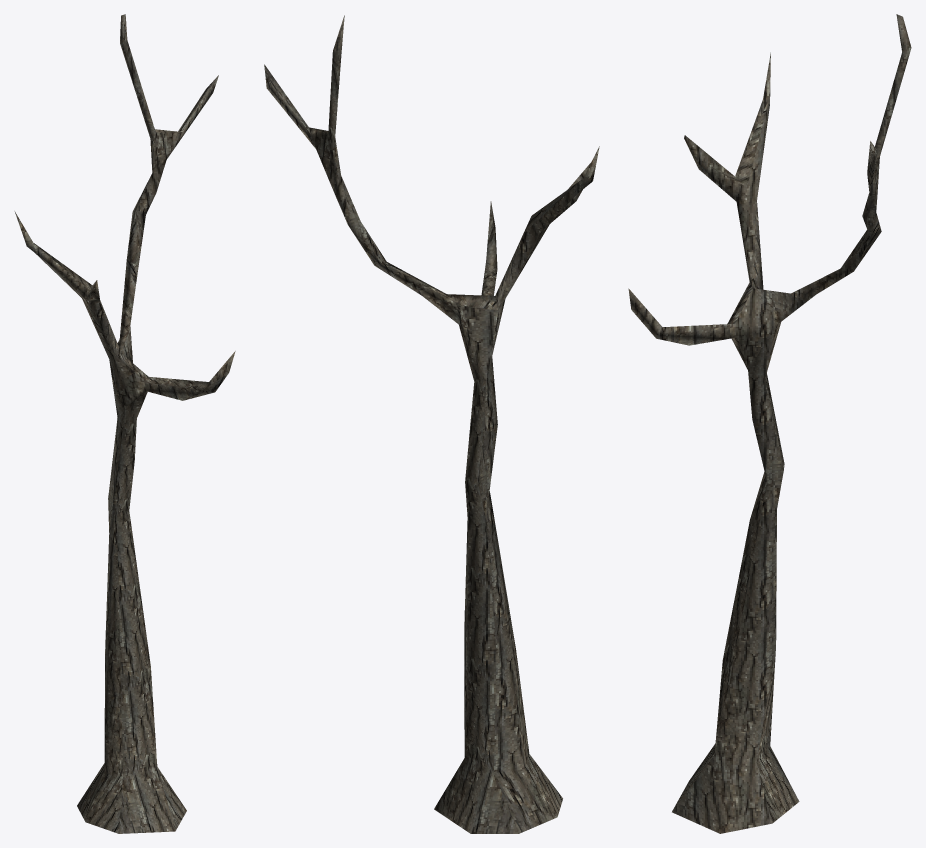
The model's file is desert_tree_2.glb.
3 renders of one model, left to right at view 1: azimuth 30°, elevation 25°; view 2: azimuth 150°, elevation 25°; view 3: azimuth 270°, elevation 25°, orthographic. The views are drawn at different scales.
Visible parts, largest first — view 1: Tree2_Material.002_0; view 2: Tree2_Material.002_0; view 3: Tree2_Material.002_0.
Part boxes in pixels (bbox=[...]): Tree2_Material.002_0: bbox=[14, 14, 235, 833]; Tree2_Material.002_0: bbox=[264, 15, 599, 833]; Tree2_Material.002_0: bbox=[628, 14, 911, 833].
Size of the model in its own units: 6.51 by 18.38 by 5.68.
1 material, 1 textured.
